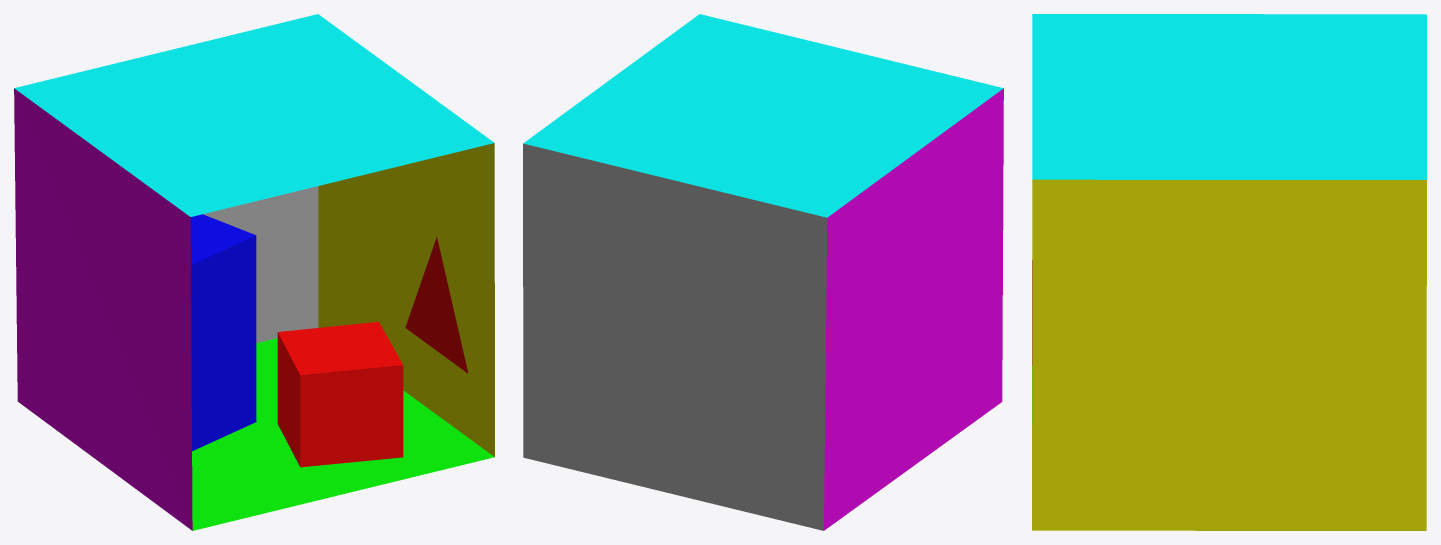
The model's file is cornell-box.obj.
3 views of the same model, side by side, from view 1: azimuth 30°, elevation 25°; view 2: azimuth 150°, elevation 25°; view 3: azimuth 270°, elevation 25° (orthographic). The views are drawn at different scales.
Visible parts, largest first — view 1: left_wall, ceiling, right_wall, floor, short_box, tall_box, back_wall, r_portal1; view 2: back_wall, left_wall, ceiling; view 3: right_wall, ceiling.
Part boxes in pixels (x1,y1,x2,y2): left_wall: (14,88,192,530); ceiling: (14,14,494,216); right_wall: (318,143,494,456); floor: (192,338,494,530); short_box: (277,322,403,467); tall_box: (190,214,256,451); back_wall: (203,186,318,343); r_portal1: (405,237,468,373); back_wall: (523,143,827,530); left_wall: (824,88,1003,530); ceiling: (523,14,1003,217); right_wall: (1032,179,1426,530); ceiling: (1032,14,1426,179).
Size of the model in its own units: 5.56 by 5.49 by 5.6.
